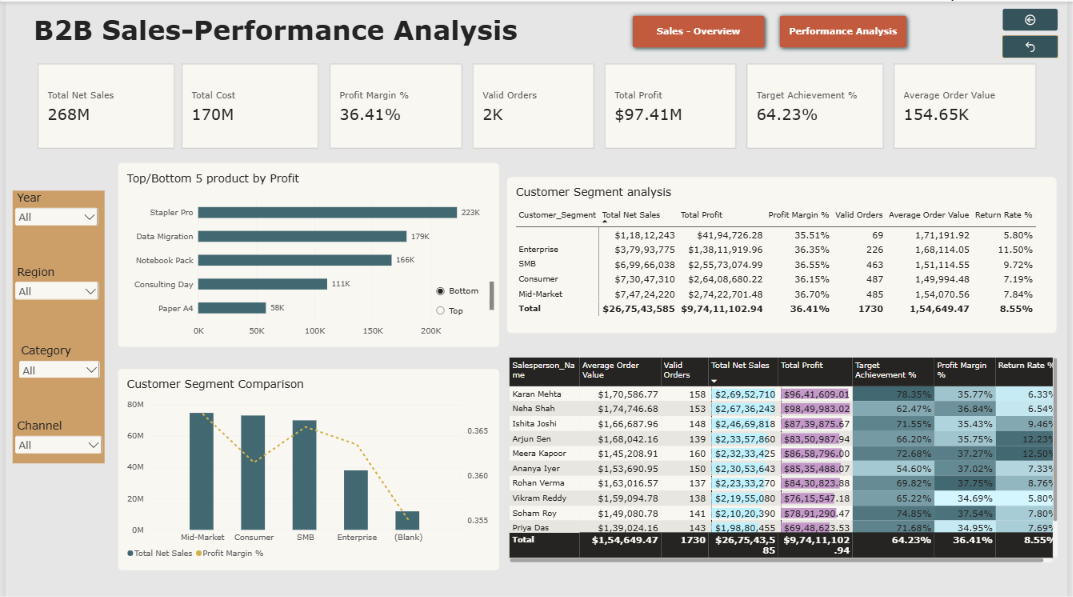

The dashboard page shown, as its layout file describes it:
{"tool":"powerbi","page":{"name":"Performance Analysis","canvas":[1920,1080],"ordinal":1},"visuals":[{"type":"textbox","box":[50,22,688,60],"z":0},{"type":"slicer","fields":{"Values":["CustomerMasterTable.Region"]},"box":[13.2,477.1,161.1,72.4],"z":0,"group":"g2"},{"type":"slicer","fields":{"Values":["ProductMasterTable.Category"]},"box":[20.1,620,155.6,61.5],"z":1000,"group":"g2"},{"type":"pivotTable","title":"Salesperson Performance","fields":{"Rows":["SalespersonMasterTable.Salesperson_Name"],"Values":["SalesTransactionsTable.Average Order Value","SalesTransactionsTable.Valid Orders","SalesTransactionsTable.Total Net Sales","SalesTransactionsTable.Total Profit","CustomerMasterTable.Target Achievement %","SalesTransactionsTable.Profit Margin %","SalesTransactionsTable.Return Rate %"]},"box":[895.7,629.8,1024.3,401.7],"z":1000},{"type":"pivotTable","title":"Customer Segment analysis","fields":{"Rows":["CustomerMasterTable.Customer_Segment"],"Values":["SalesTransactionsTable.Total Net Sales","SalesTransactionsTable.Total Profit","SalesTransactionsTable.Profit Margin %","SalesTransactionsTable.Valid Orders","SalesTransactionsTable.Average Order Value","SalesTransactionsTable.Return Rate %"]},"box":[907.5,317.5,996,284],"z":2000},{"type":"slicer","fields":{"Values":["SalesTransactionsTable.Channel"]},"box":[13.2,755.5,166.5,81.4],"z":2000,"group":"g2"},{"type":"clusteredBarChart","title":"Top/Bottom 5 product by Profit","fields":{"Y":["SalesTransactionsTable.Top Bottom Profit"],"Category":["ProductMasterTable.Product_Name"]},"box":[202.5,291.4,691.3,334.8],"z":3000,"group":"g1"},{"type":"slicer","fields":{"Values":["calender_table.Year"]},"box":[13.2,342.8,159.3,72.4],"z":3000,"group":"g2"},{"type":"lineClusteredColumnComboChart","title":"Customer Segment Comparison","fields":{"Category":["CustomerMasterTable.Customer_Segment"],"Y":["SalesTransactionsTable.Total Net Sales"],"Y2":["SalesTransactionsTable.Profit Margin %"]},"box":[202.7,664.1,691.3,365.6],"z":3000},{"type":"group","id":"g1","title":"Group 1","box":[202.5,291.4,691.3,334.8],"z":4000},{"type":"slicer","fields":{"Values":["TopBottomSelector.Selection"]},"box":[771.3,506,113.1,63.3],"z":4000,"group":"g1"},{"type":"cardVisual","fields":{"Data":["SalesTransactionsTable.Total Cost"]},"box":[318.6,112.8,248,154],"z":5000},{"type":"cardVisual","fields":{"Data":["SalesTransactionsTable.Profit Margin %"]},"box":[585.6,112.8,240,154],"z":6000},{"type":"cardVisual","fields":{"Data":["SalesTransactionsTable.Valid Orders"]},"box":[844.6,112.8,220,154],"z":7000},{"type":"cardVisual","fields":{"Data":["SalesTransactionsTable.Total Profit"]},"box":[1083.6,112,238,154],"z":8000},{"type":"cardVisual","fields":{"Data":["CustomerMasterTable.Target Achievement %"]},"box":[1340.6,112.8,248,154],"z":9000},{"type":"cardVisual","fields":{"Data":["SalesTransactionsTable.Average Order Value"]},"box":[1607.6,112,258,154],"z":10000},{"type":"cardVisual","fields":{"Data":["SalesTransactionsTable.Total Net Sales"]},"box":[57.6,112,248,154],"z":11000},{"type":"actionButton","box":[1803.8,12.3,100,40],"z":13000},{"type":"actionButton","box":[1803.8,60.8,100,40],"z":14000},{"type":"actionButton","box":[1125.4,16.3,257,76],"z":15000,"group":"g3"},{"type":"actionButton","box":[1391.4,16.3,247.9,76],"z":16000,"group":"g3"},{"type":"group","id":"g2","title":"Group 1","box":[13.2,342.8,166.5,494.1],"z":17001},{"type":"group","id":"g3","title":"Group 2","box":[1125.4,16.3,513.9,76],"z":17002}]}

Visuals, with their boxes in screenshot pixels (x1, y1, x2, y2), scaled from the page's 1920x1080 canvas onto the 1073x597 screenshot:
textbox: bbox=(28, 12, 412, 45)
slicer - CustomerMasterTable.Region: bbox=(7, 264, 97, 304)
slicer - ProductMasterTable.Category: bbox=(11, 343, 98, 377)
"Salesperson Performance" pivotTable: bbox=(501, 348, 1072, 570)
"Customer Segment analysis" pivotTable: bbox=(507, 176, 1064, 332)
slicer - SalesTransactionsTable.Channel: bbox=(7, 418, 100, 463)
"Top/Bottom 5 product by Profit" clusteredBarChart: bbox=(113, 161, 500, 346)
slicer - calender_table.Year: bbox=(7, 189, 96, 230)
"Customer Segment Comparison" lineClusteredColumnComboChart: bbox=(113, 367, 500, 569)
"Group 1" group: bbox=(113, 161, 500, 346)
slicer - TopBottomSelector.Selection: bbox=(431, 280, 494, 315)
cardVisual - SalesTransactionsTable.Total Cost: bbox=(178, 62, 317, 147)
cardVisual - SalesTransactionsTable.Profit Margin %: bbox=(327, 62, 461, 147)
cardVisual - SalesTransactionsTable.Valid Orders: bbox=(472, 62, 595, 147)
cardVisual - SalesTransactionsTable.Total Profit: bbox=(606, 62, 739, 147)
cardVisual - CustomerMasterTable.Target Achievement %: bbox=(749, 62, 888, 147)
cardVisual - SalesTransactionsTable.Average Order Value: bbox=(898, 62, 1043, 147)
cardVisual - SalesTransactionsTable.Total Net Sales: bbox=(32, 62, 171, 147)
actionButton: bbox=(1008, 7, 1064, 29)
actionButton: bbox=(1008, 34, 1064, 56)
actionButton: bbox=(629, 9, 773, 51)
actionButton: bbox=(778, 9, 916, 51)
"Group 1" group: bbox=(7, 189, 100, 463)
"Group 2" group: bbox=(629, 9, 916, 51)
